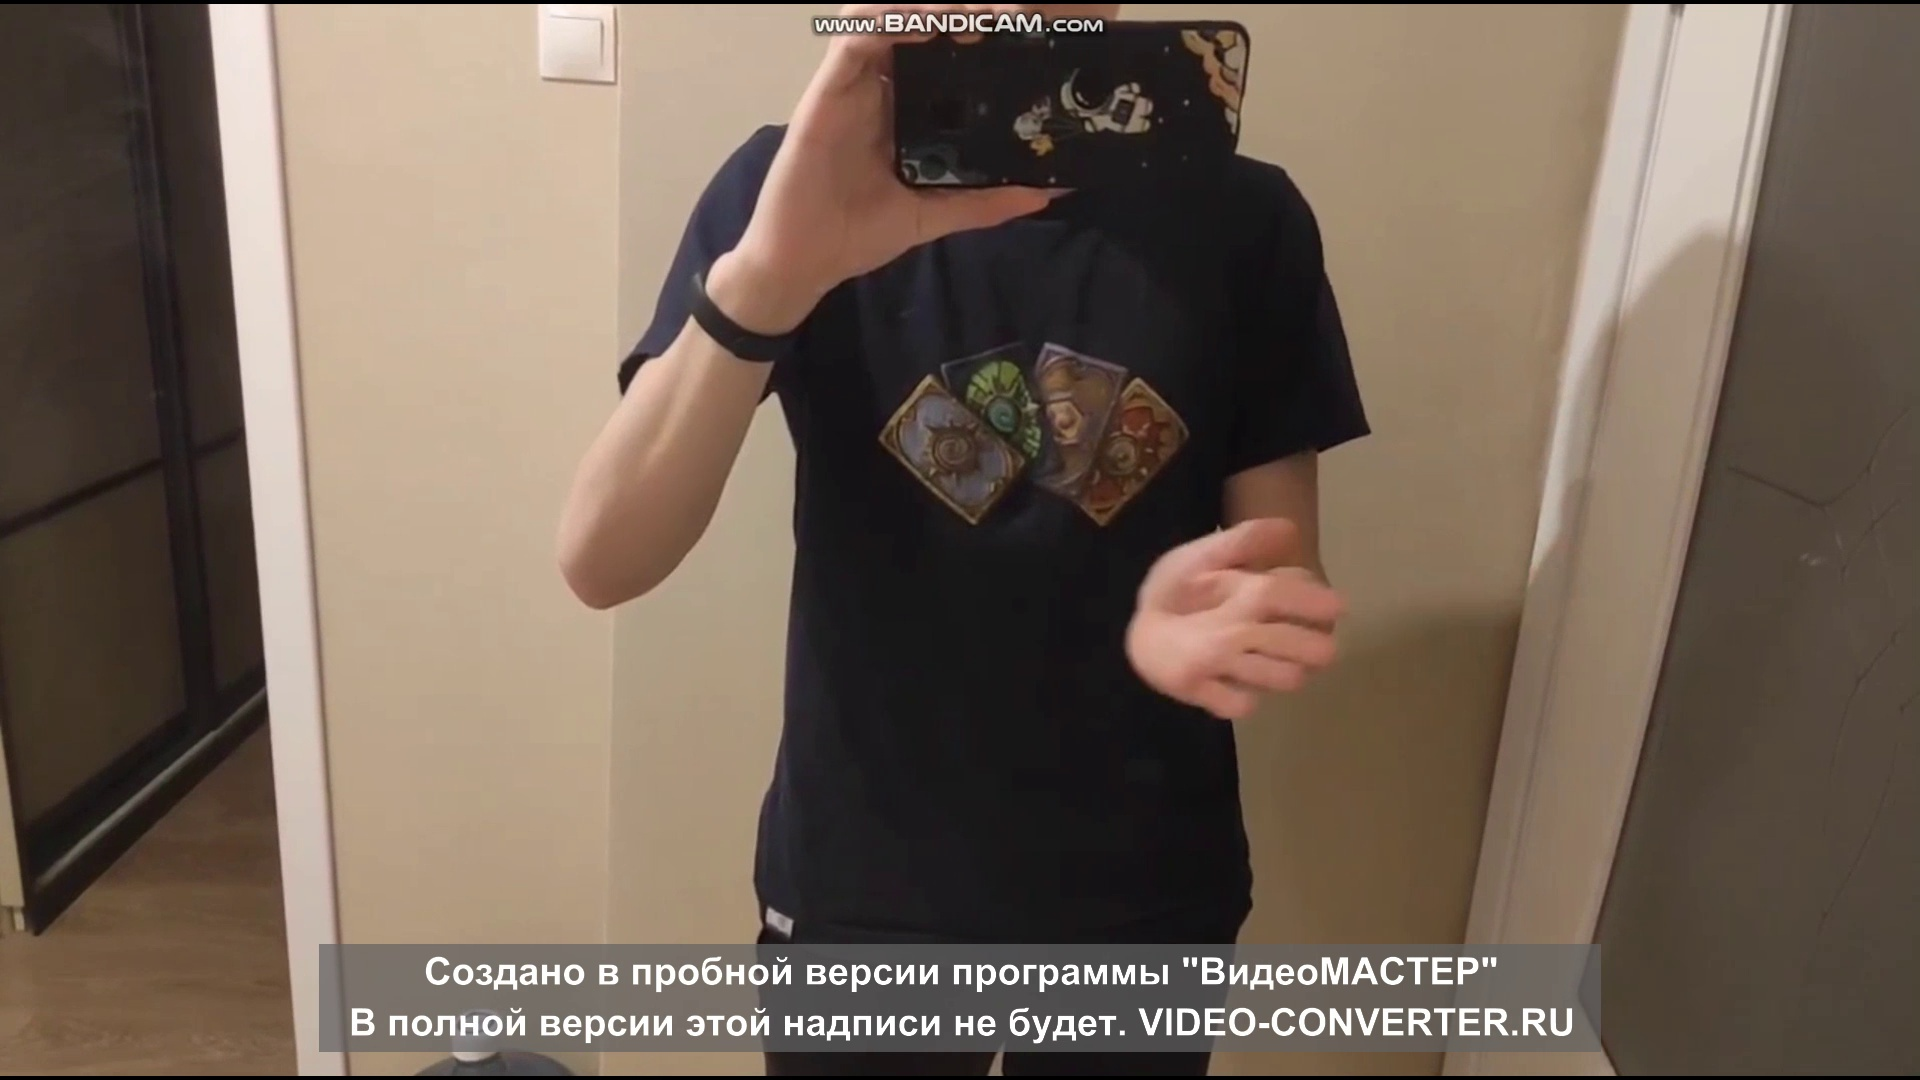Ладонь: (1126, 520, 1345, 720)
